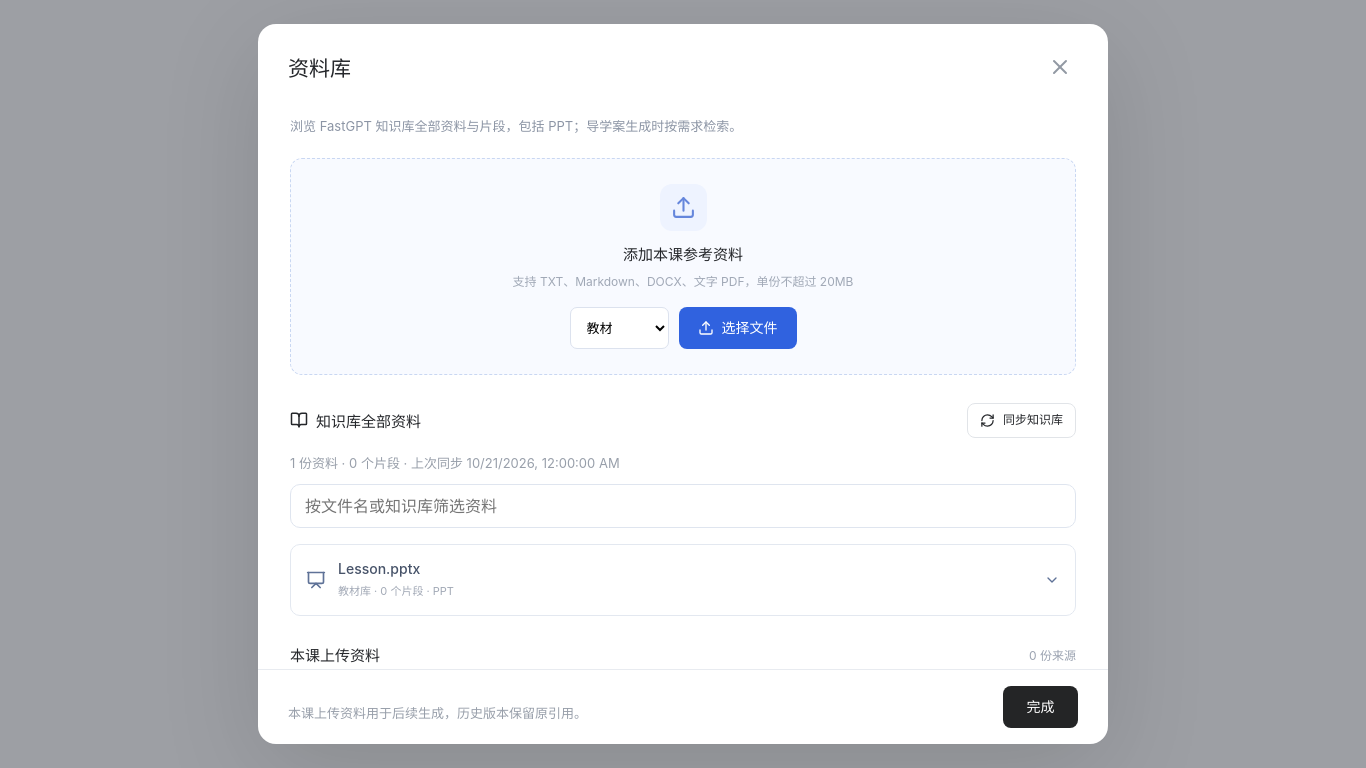
Test: 导学案 automatically syncs its own catalog and keeps it visible after a failed refresh
Expected: the button "Lesson.pptx 教材库 · 0 个片段 · PPT" is shown, x1=291 y1=545 x2=1075 y2=616
Step 1. Type "不匹配" into the field named "筛选知识库资料" → (683, 506), box x1=290 y1=484 x2=1076 y2=528
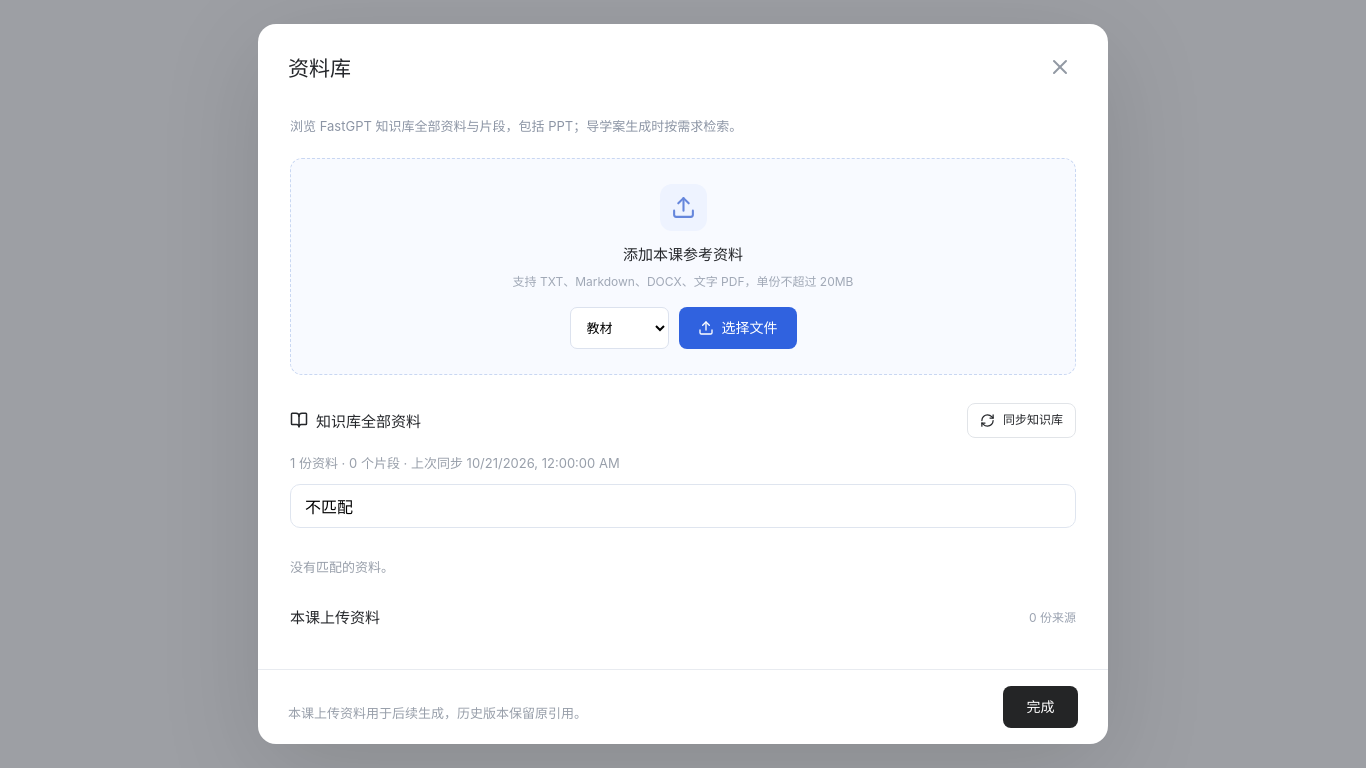
Expected: the button "Lesson.pptx" is gone
Step 2. Replace the text in the field named "筛选知识库资料" with "lesson" → (683, 506), box x1=290 y1=484 x2=1076 y2=528
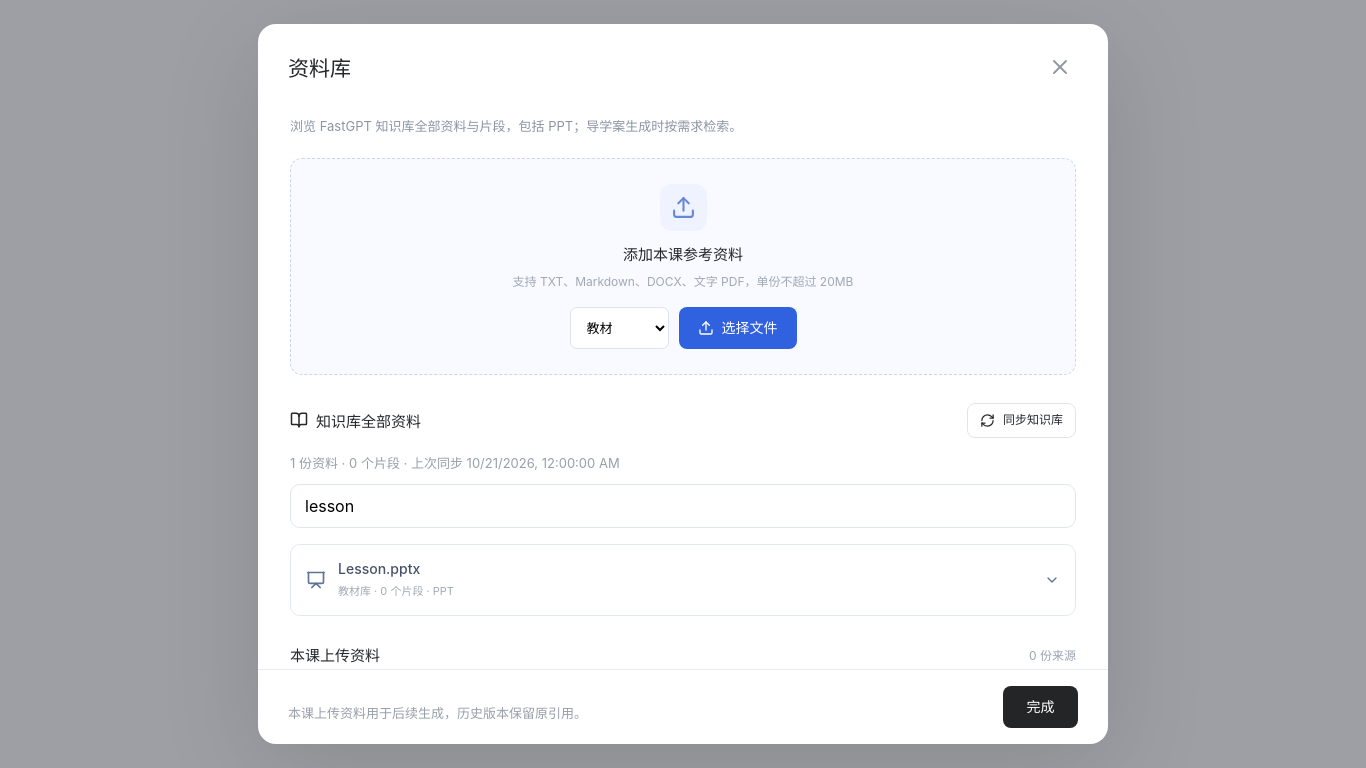
Step 3. Click the button "同步知识库" → (1022, 420), box x1=967 y1=403 x2=1076 y2=438
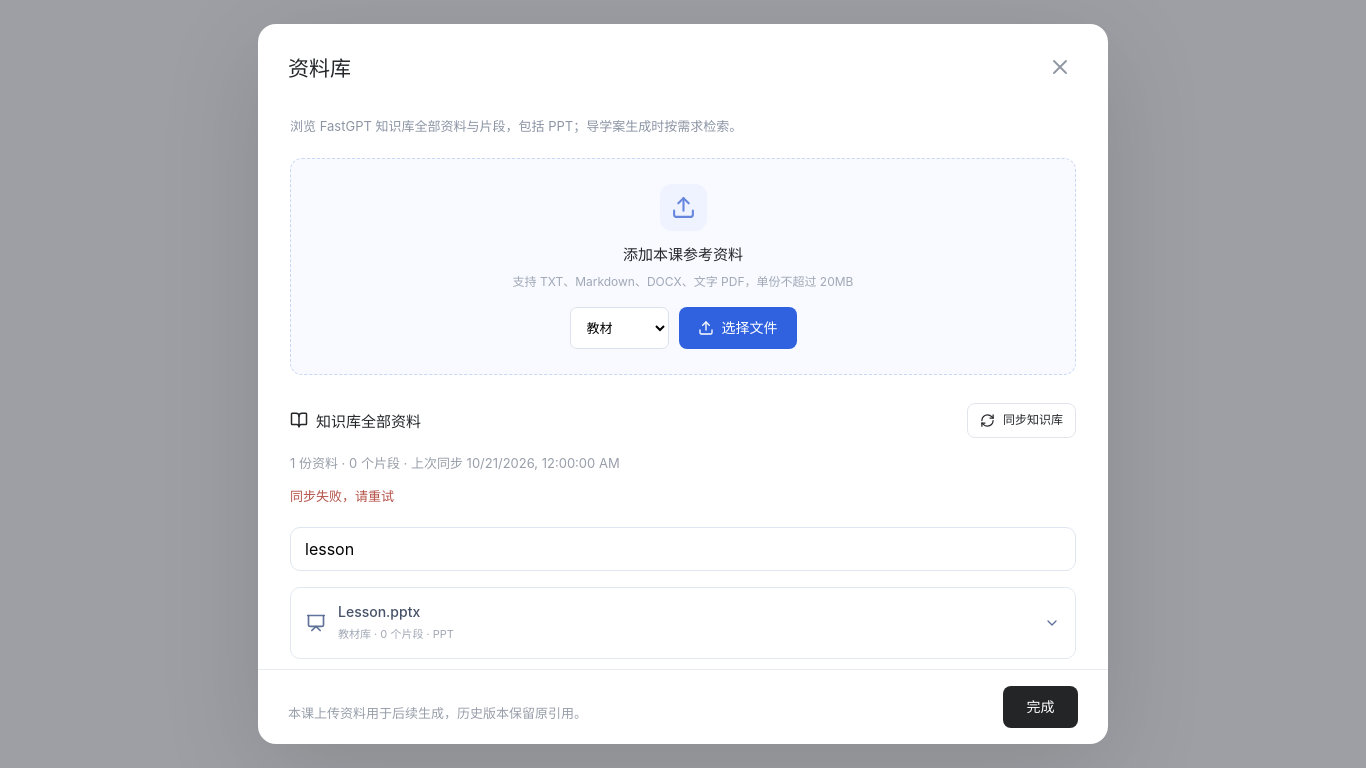
Expected: the button "Lesson.pptx 教材库 · 0 个片段 · PPT" is shown, x1=291 y1=588 x2=1075 y2=658
Expected: the message reads "同步失败，请重试", x1=290 y1=488 x2=394 y2=504
